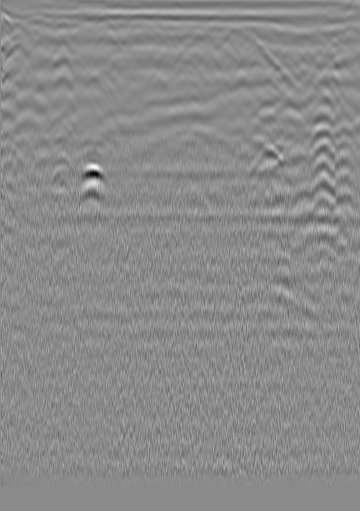가스: (72, 158, 110, 189)
상수: (317, 39, 337, 59)
오수: (26, 35, 46, 55)
우수: (192, 31, 212, 51)
